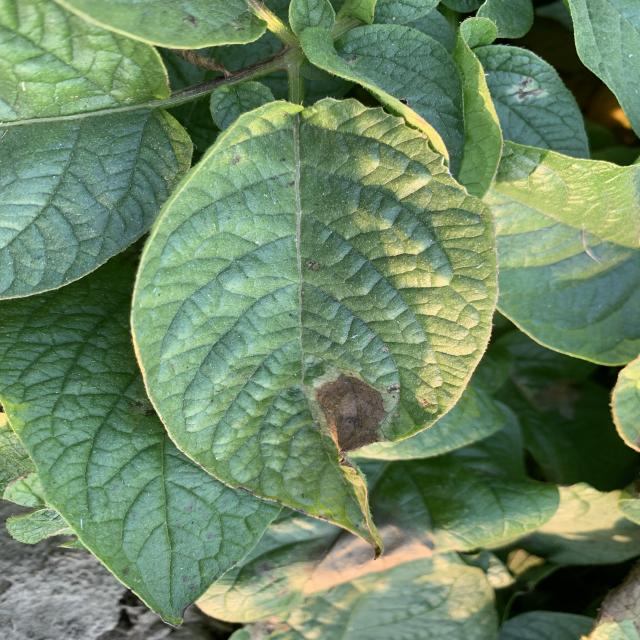lateblight: (303, 355, 400, 452)
